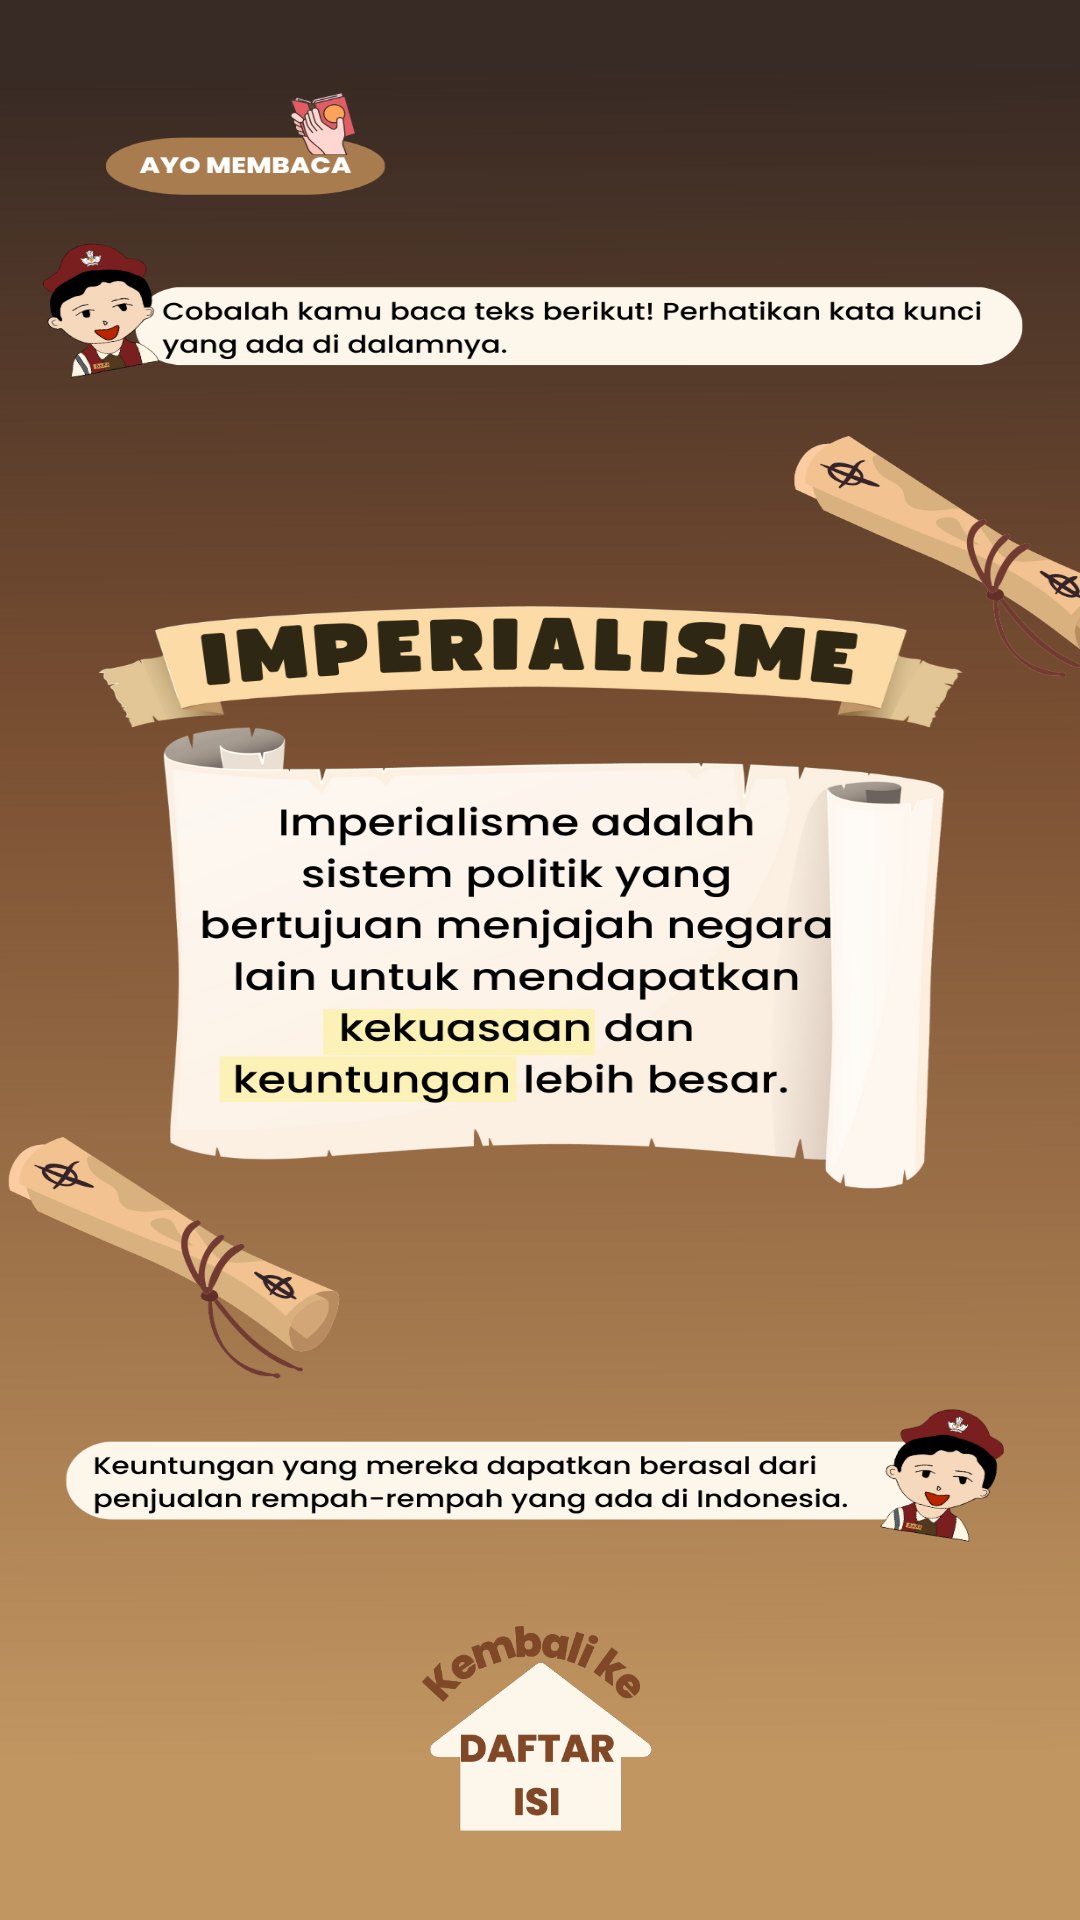

Where icons sit on this 1080×1920 app screen, as (x1, y1, x2, y2):
home: (422, 1626, 652, 1831)
